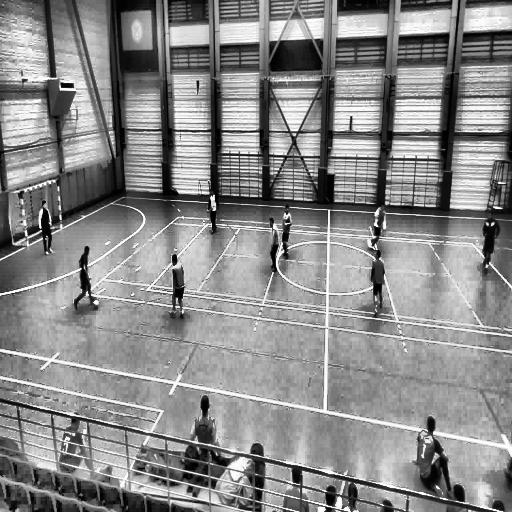ball: (92, 298, 100, 313)
player: (414, 416, 451, 499), (75, 245, 98, 312), (480, 214, 500, 274), (370, 248, 387, 317), (169, 252, 186, 320), (368, 202, 386, 252), (38, 200, 52, 254), (269, 217, 280, 272), (281, 204, 291, 258), (208, 187, 219, 234)
